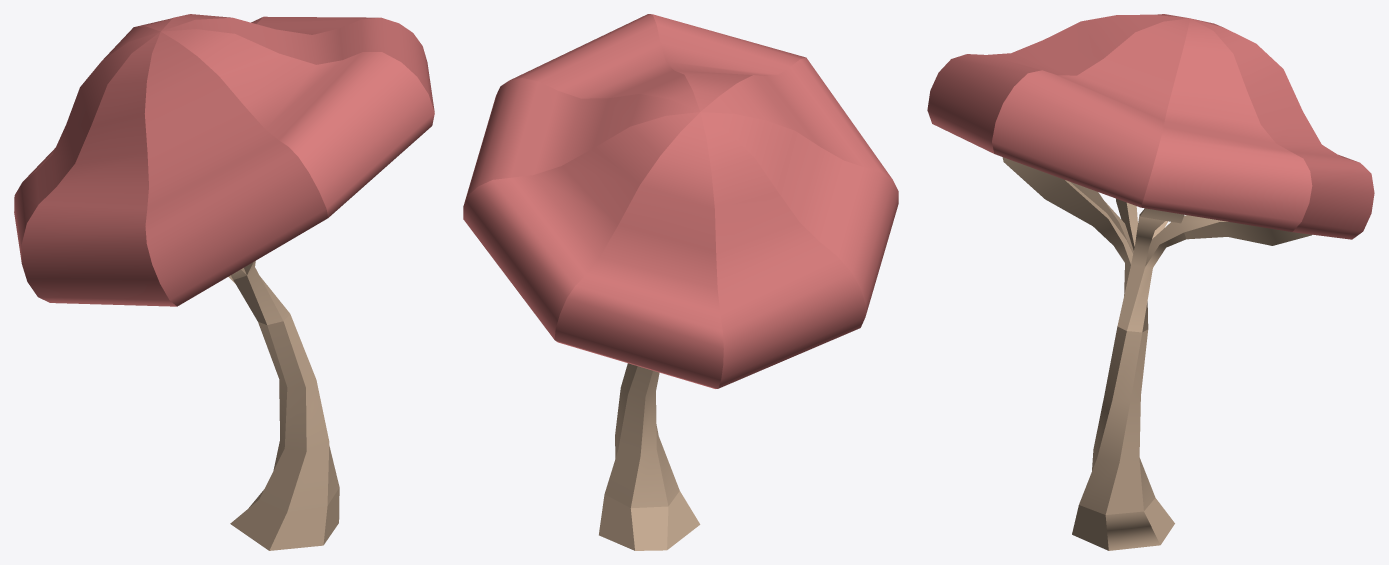
The model's file is Fairy_Shroom2.fbx.
The picture shows the model from 3 angles, left to right: view 1: azimuth 30°, elevation 25°; view 2: azimuth 150°, elevation 25°; view 3: azimuth 270°, elevation 25°; orthographic projection. The views are drawn at different scales.
Visible parts, largest first — view 1: Fairy_Shroom2; view 2: Fairy_Shroom2; view 3: Fairy_Shroom2.
Part boxes in pixels (x1,y1,x2,y2): Fairy_Shroom2: (14,14,434,550); Fairy_Shroom2: (463,14,898,550); Fairy_Shroom2: (927,14,1374,550).
Size of the model in its own units: 993 by 1192 by 1010.
